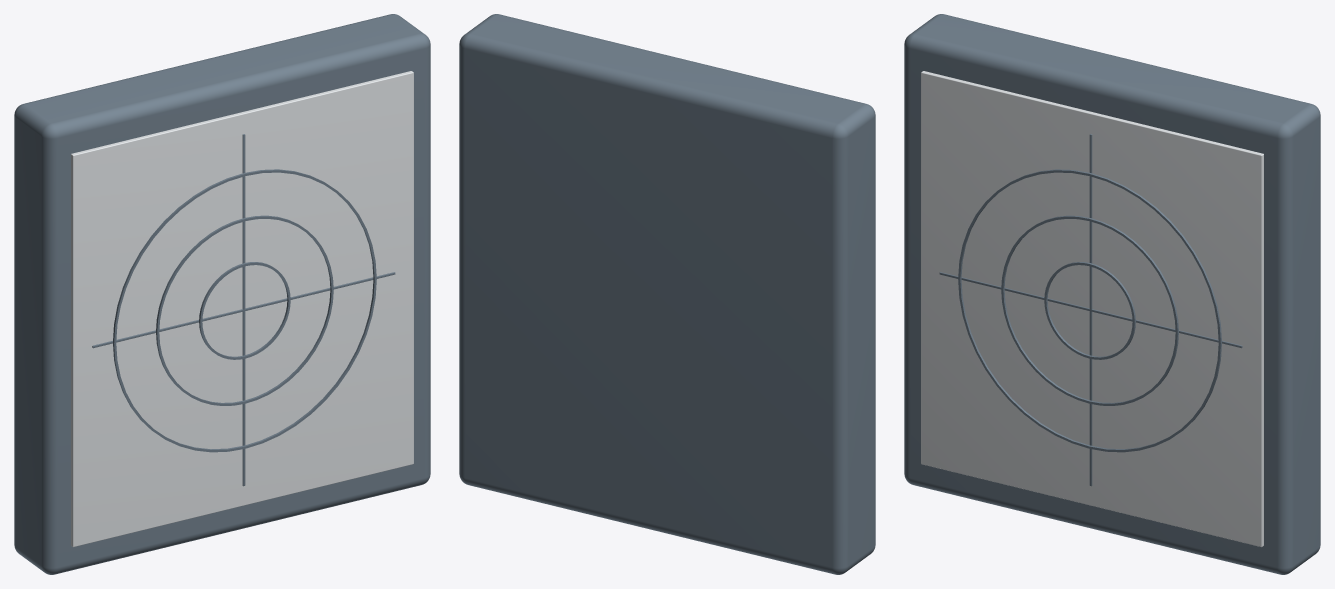
File: TARGET.glb
3 views of the same model, side by side, from view 1: azimuth 30°, elevation 25°; view 2: azimuth 150°, elevation 25°; view 3: azimuth 330°, elevation 25° (orthographic).
Parts seen in each view (by area): view 1: TARGET/0001_panel, TARGET/0000_panel, TARGET/0006_target_ring, TARGET/0005_target_ring, TARGET/0003_panel, TARGET/0004_target_ring, TARGET/0002_panel; view 2: TARGET/0000_panel; view 3: TARGET/0001_panel, TARGET/0000_panel, TARGET/0006_target_ring, TARGET/0005_target_ring, TARGET/0003_panel, TARGET/0004_target_ring, TARGET/0002_panel.
Boxes of the visible parts, <box> form: TARGET/0001_panel: <box>71,71,413,547</box>; TARGET/0000_panel: <box>14,14,430,574</box>; TARGET/0006_target_ring: <box>113,169,376,452</box>; TARGET/0005_target_ring: <box>156,215,333,405</box>; TARGET/0003_panel: <box>242,134,245,486</box>; TARGET/0004_target_ring: <box>199,262,290,359</box>; TARGET/0002_panel: <box>92,272,395,348</box>; TARGET/0000_panel: <box>459,14,875,574</box>; TARGET/0001_panel: <box>921,71,1263,547</box>; TARGET/0000_panel: <box>904,14,1320,574</box>; TARGET/0006_target_ring: <box>958,169,1221,452</box>; TARGET/0005_target_ring: <box>1001,215,1178,405</box>; TARGET/0003_panel: <box>1089,134,1092,486</box>; TARGET/0004_target_ring: <box>1044,262,1135,359</box>; TARGET/0002_panel: <box>939,272,1242,348</box>.
Bounding box in the file's own units: 0.18 × 0.2 × 0.0335.
